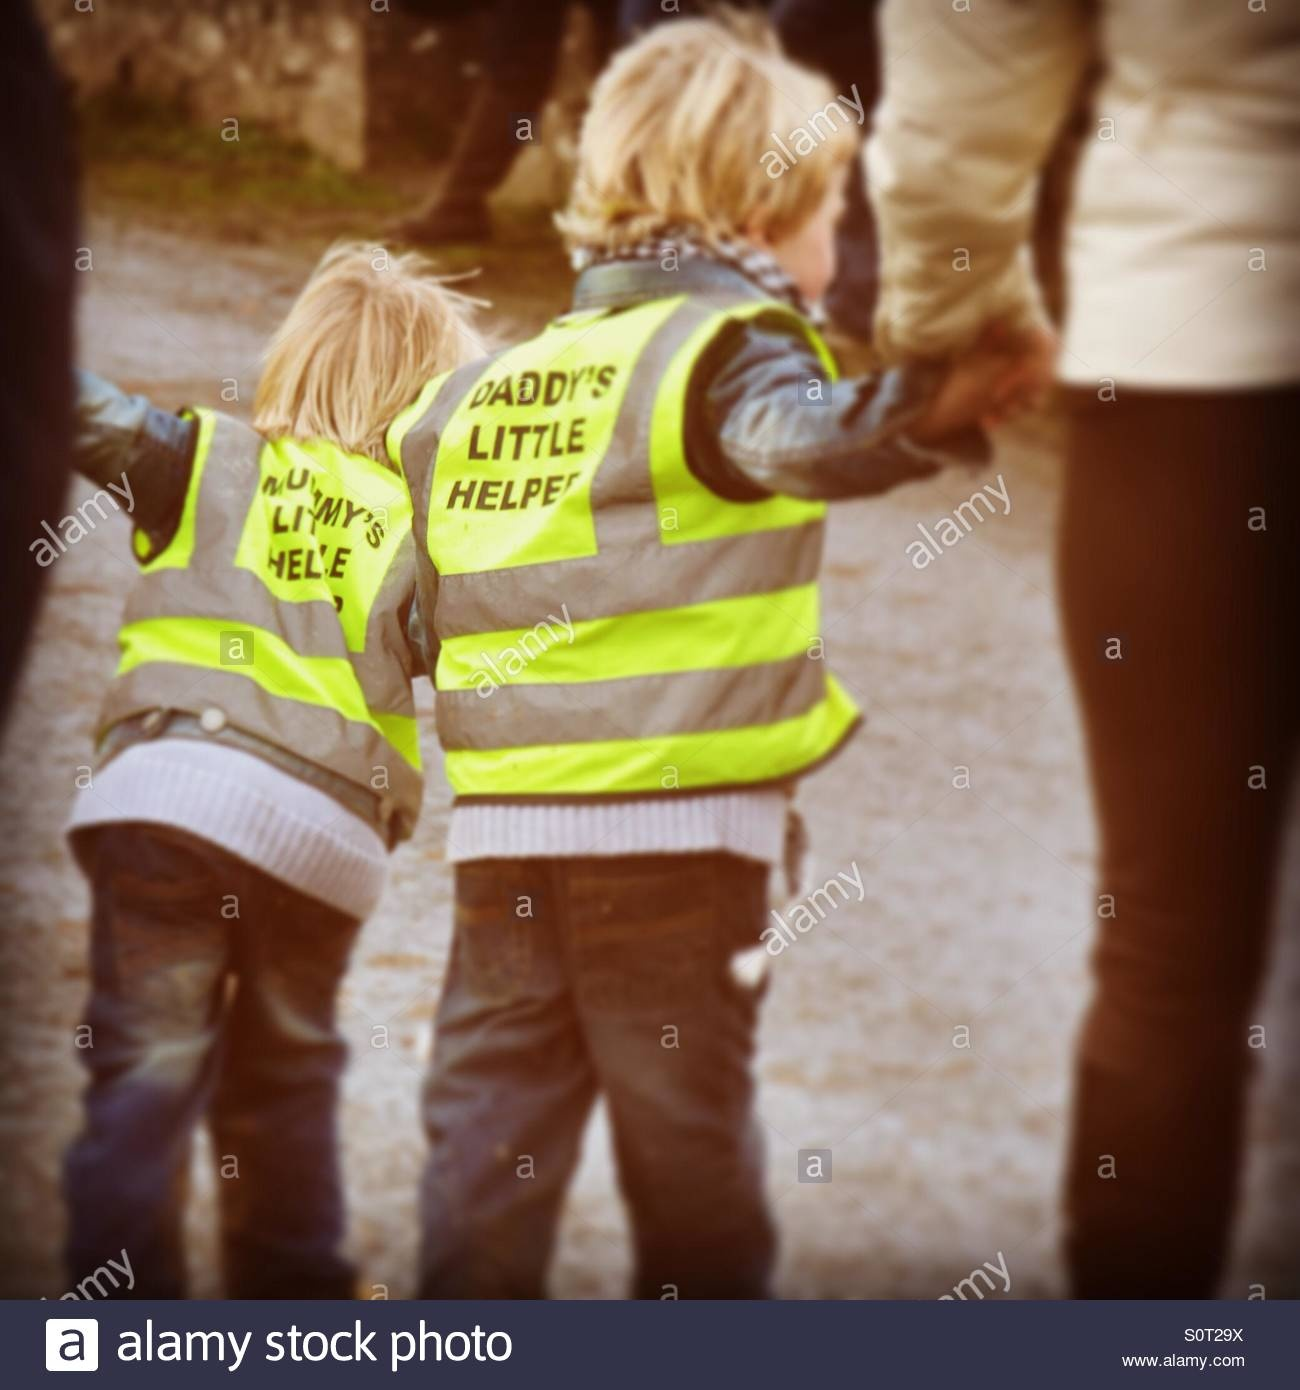person with partial safety: (419, 40, 876, 1306), (86, 220, 426, 1288)
person without safety: (902, 3, 1289, 1289)
safety vest: (414, 306, 884, 799), (105, 385, 426, 846)
